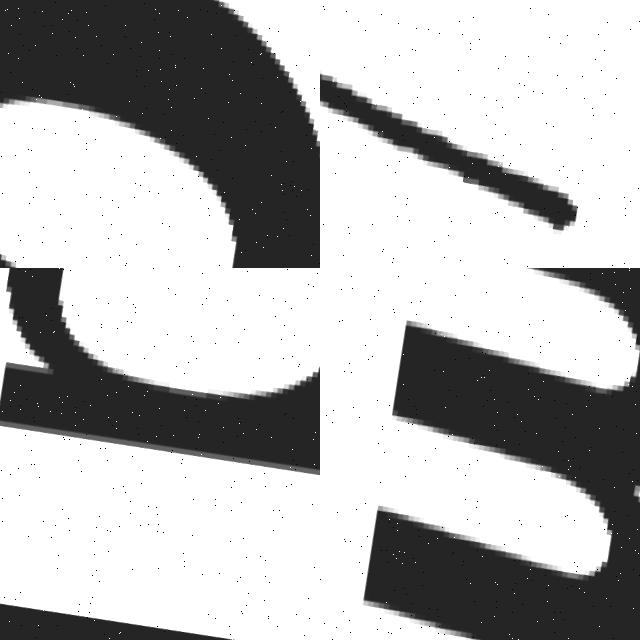D: (0, 268, 320, 548)
J: (320, 0, 640, 268)
M: (320, 268, 640, 640)
O: (0, 0, 320, 268)
